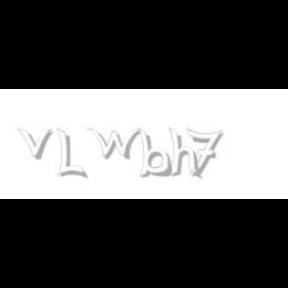7: (186, 128, 224, 178)
L: (57, 128, 85, 180)
b: (137, 128, 175, 178)
h: (169, 128, 204, 180)
v: (17, 128, 57, 160)
w: (86, 128, 146, 160)
